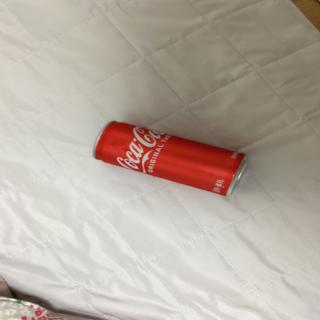cocacola: (81, 110, 259, 203)
